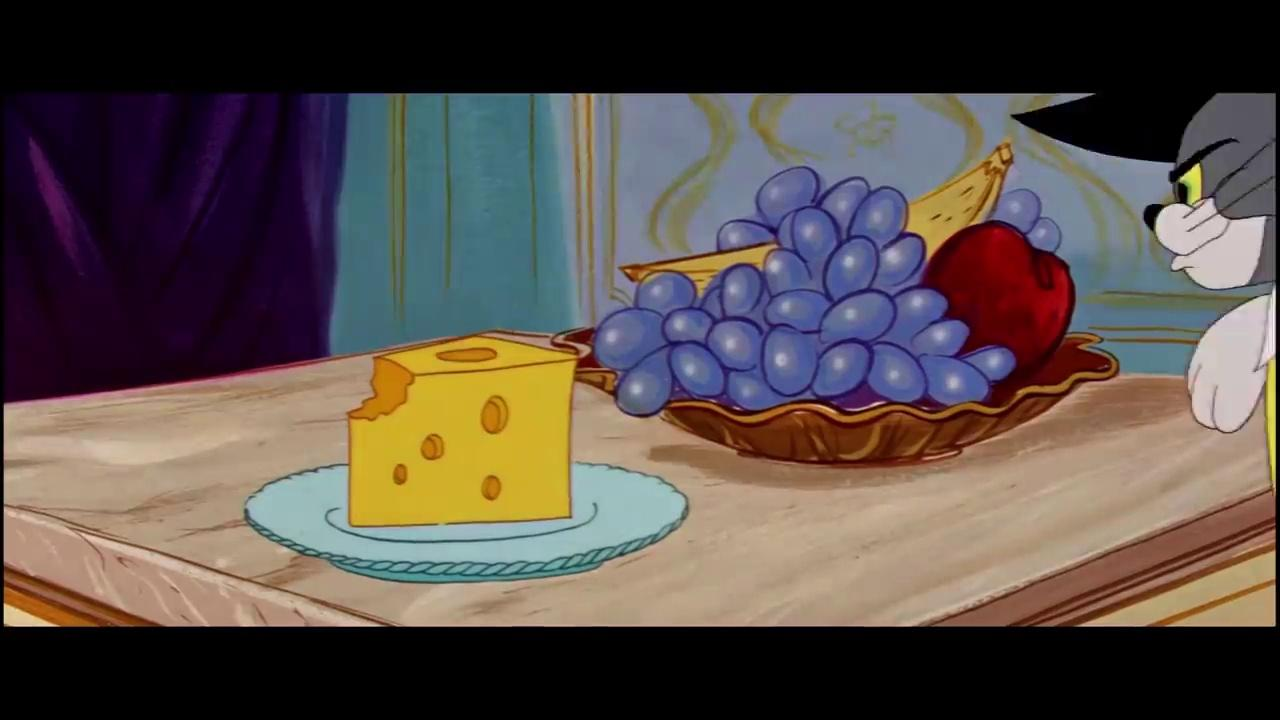Tom: (1142, 91, 1280, 436)
